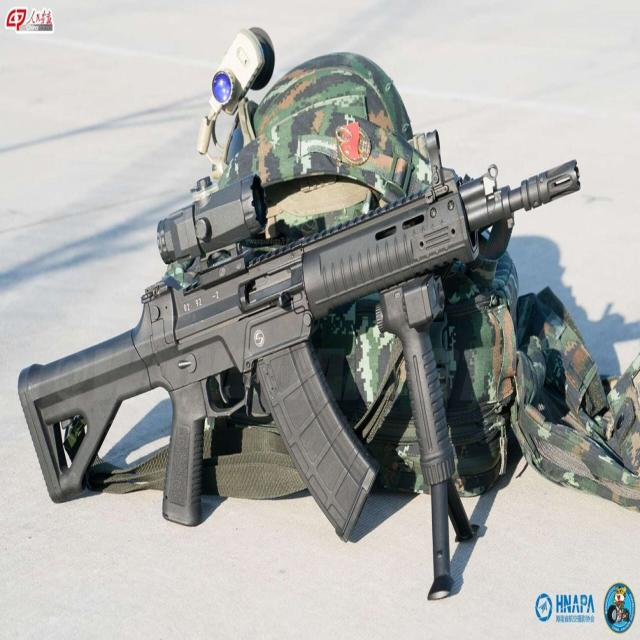Rifle: (17, 161, 582, 545)
